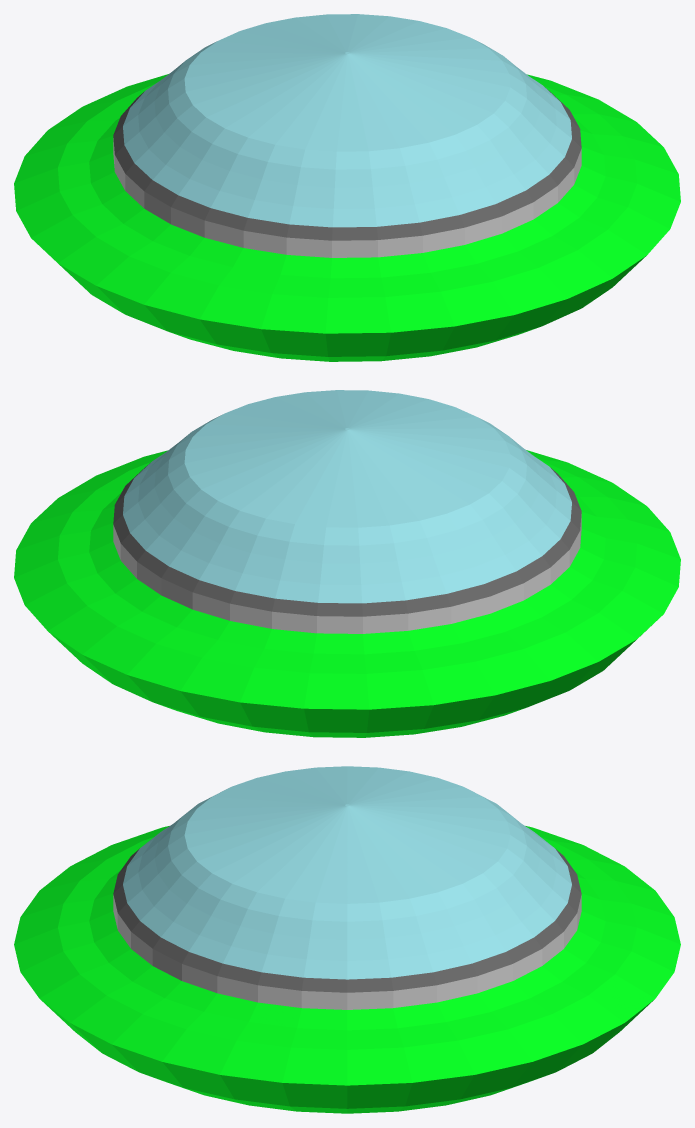
Rendered from nave1.glb.
3 renders of one model, top to bottom at view 1: azimuth 30°, elevation 25°; view 2: azimuth 150°, elevation 25°; view 3: azimuth 270°, elevation 25°, orthographic.
Parts seen in each view (by area): view 1: Cylinder; view 2: Cylinder; view 3: Cylinder.
Part boxes in pixels (<box>): Cylinder: <box>14,14,680,361</box>; Cylinder: <box>14,390,680,737</box>; Cylinder: <box>14,766,680,1113</box>.
Size of the model in its own units: 1.42 by 0.5269 by 1.42.
